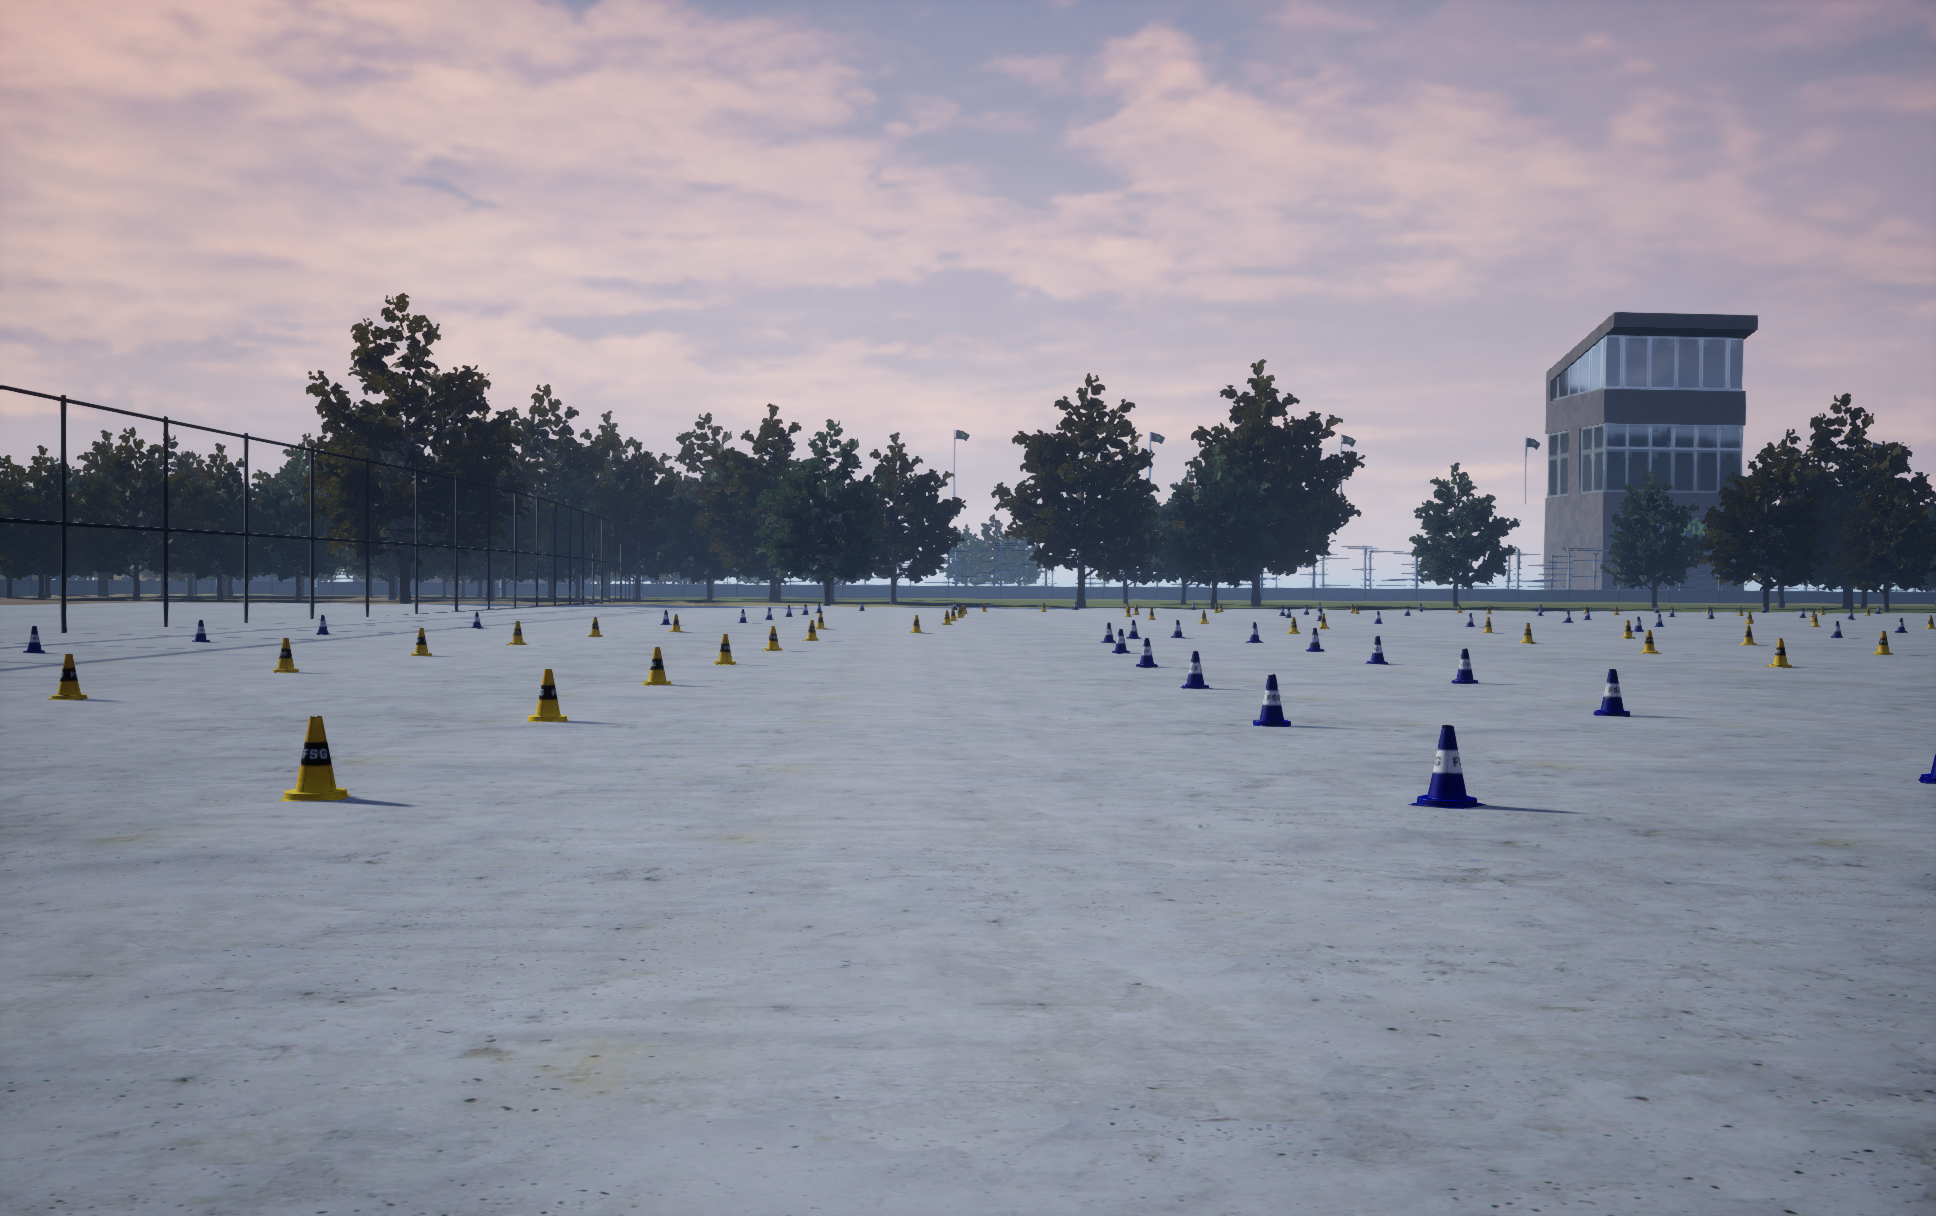blue: (279, 716, 350, 800), (527, 670, 567, 721), (48, 654, 87, 699), (642, 647, 672, 685), (273, 637, 298, 672), (1765, 637, 1795, 667), (714, 635, 735, 664), (410, 628, 431, 656), (506, 621, 528, 644), (1640, 630, 1661, 653), (762, 626, 782, 650), (1874, 630, 1893, 654), (1740, 625, 1757, 644), (803, 621, 818, 640), (1520, 623, 1535, 643), (588, 616, 602, 636), (670, 614, 682, 630), (911, 615, 922, 632)
yellow: (1408, 726, 1485, 808), (1252, 674, 1290, 726), (1593, 670, 1631, 716), (1180, 651, 1212, 688), (1451, 649, 1478, 684), (1364, 636, 1390, 664), (1136, 637, 1157, 667), (22, 626, 43, 651), (1918, 754, 1935, 783), (1306, 628, 1324, 651), (1112, 629, 1129, 653), (1245, 622, 1264, 642), (192, 621, 209, 642), (1101, 622, 1115, 642), (317, 615, 329, 635), (1126, 621, 1140, 637), (1171, 621, 1184, 637)
